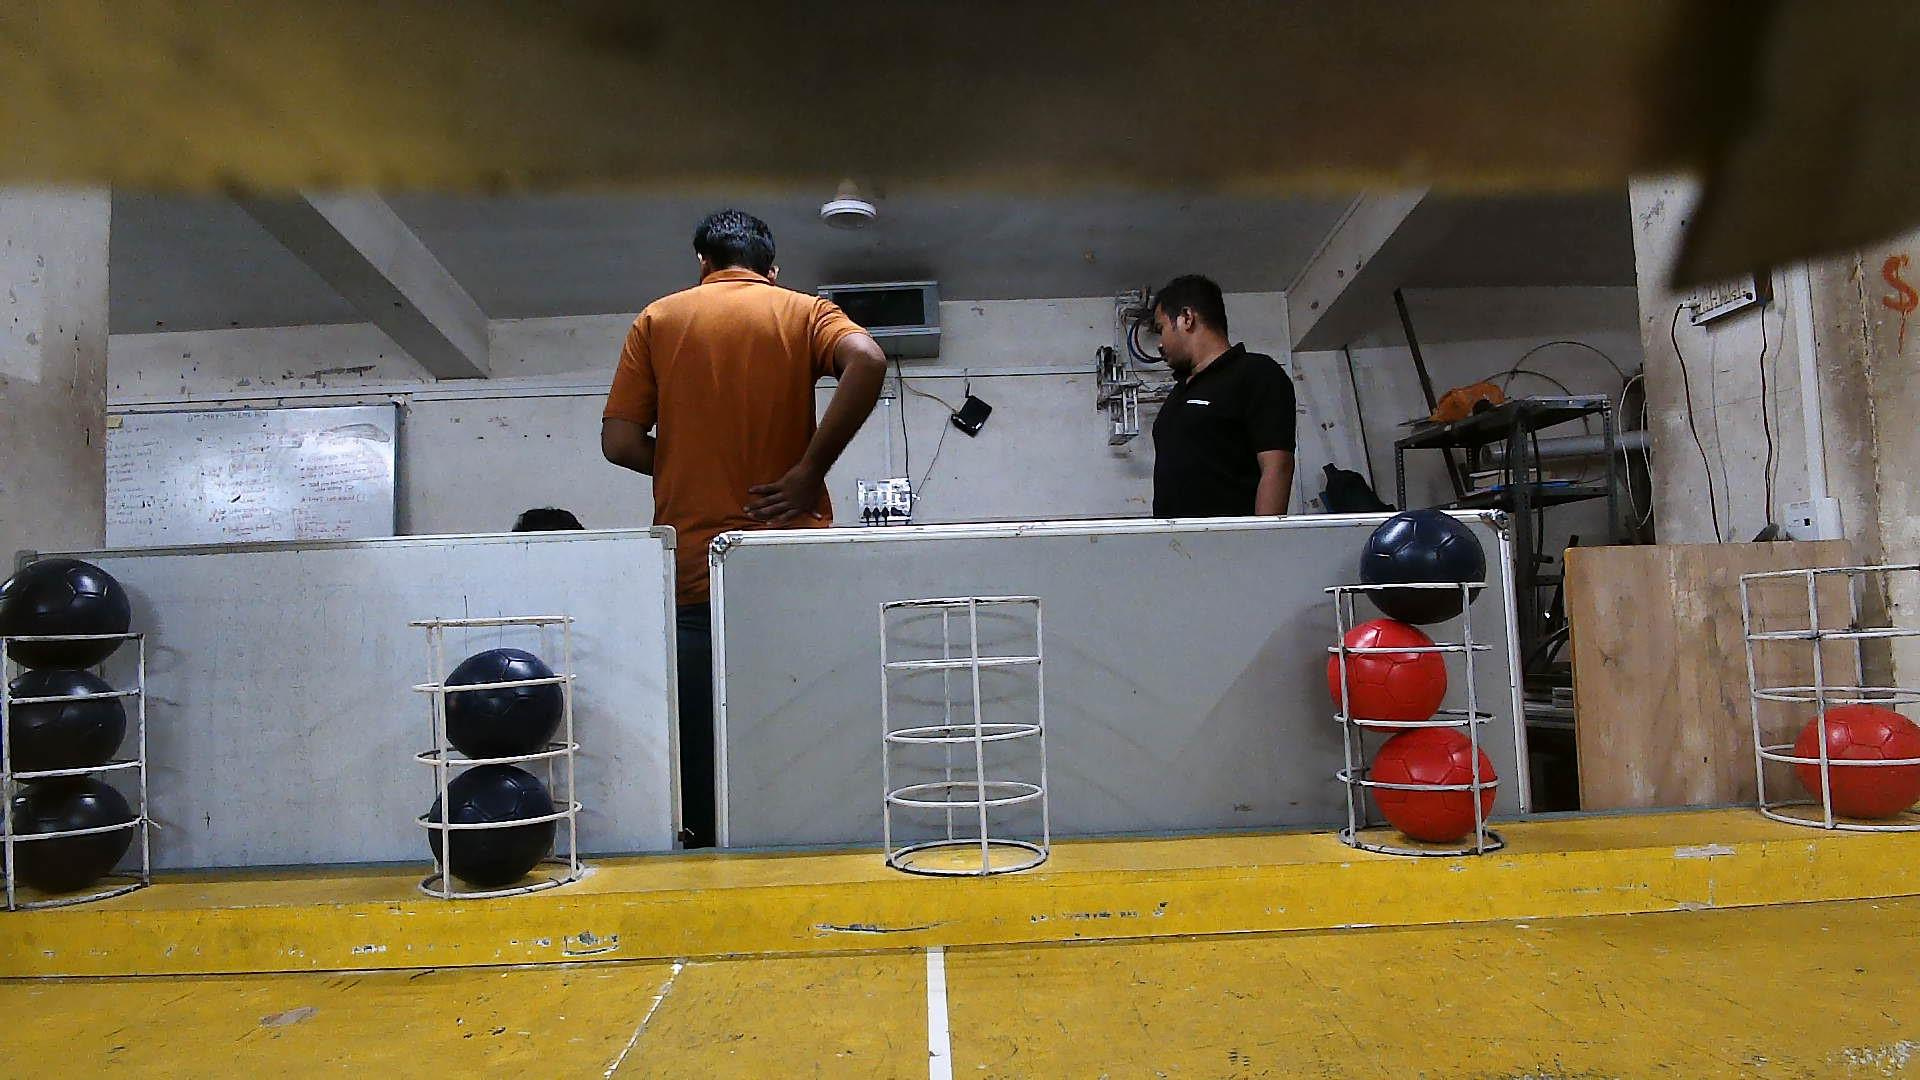dhoka: (3, 663, 131, 783), (1360, 508, 1486, 625), (433, 766, 550, 881), (3, 554, 123, 663), (444, 649, 563, 758), (13, 785, 124, 898)
laale: (1795, 703, 1920, 820), (1374, 727, 1497, 843), (1328, 620, 1447, 732)
